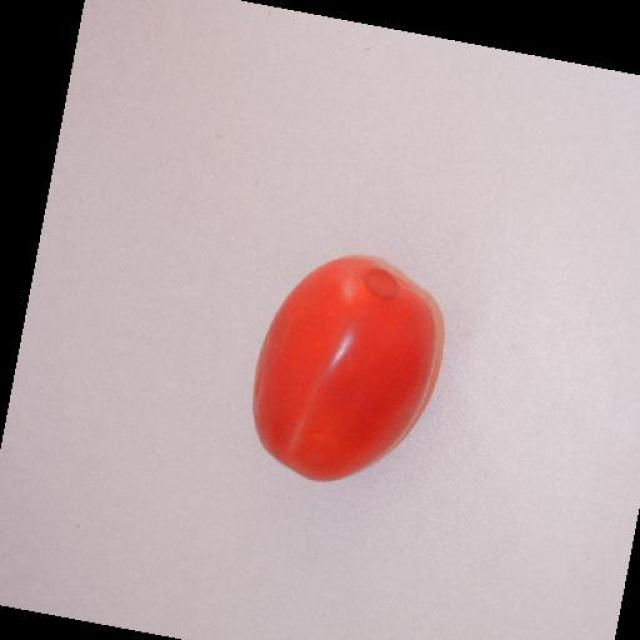Fresh_tomato: (241, 237, 451, 496)
